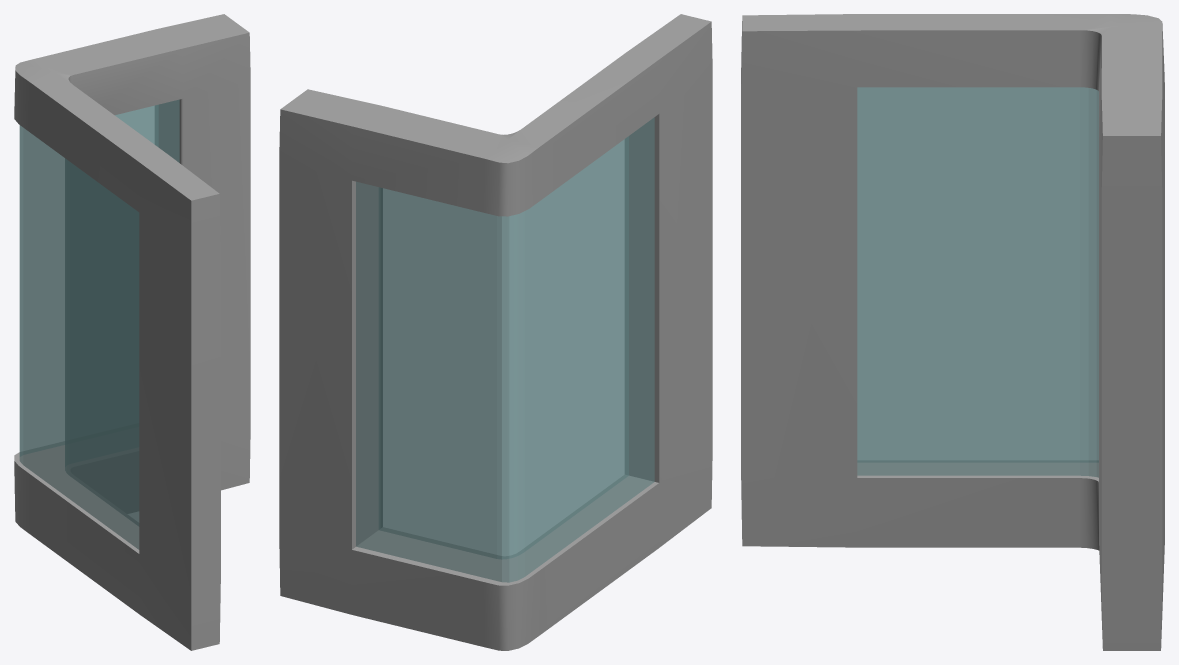
Rendered from mur_fenetre_SM.fbx.
The picture shows the model from 3 angles, left to right: view 1: azimuth 30°, elevation 25°; view 2: azimuth 150°, elevation 25°; view 3: azimuth 270°, elevation 25°; orthographic projection. The views are drawn at different scales.
Parts seen in each view (by area): view 1: mur_vitre_low; view 2: mur_vitre_low; view 3: mur_vitre_low.
Part boxes in pixels (x1,y1,x2,y2): mur_vitre_low: [14, 14, 250, 650]; mur_vitre_low: [279, 14, 712, 650]; mur_vitre_low: [741, 14, 1164, 650].
Bounding box in the file's own units: 5.51 × 8.09 × 11.
